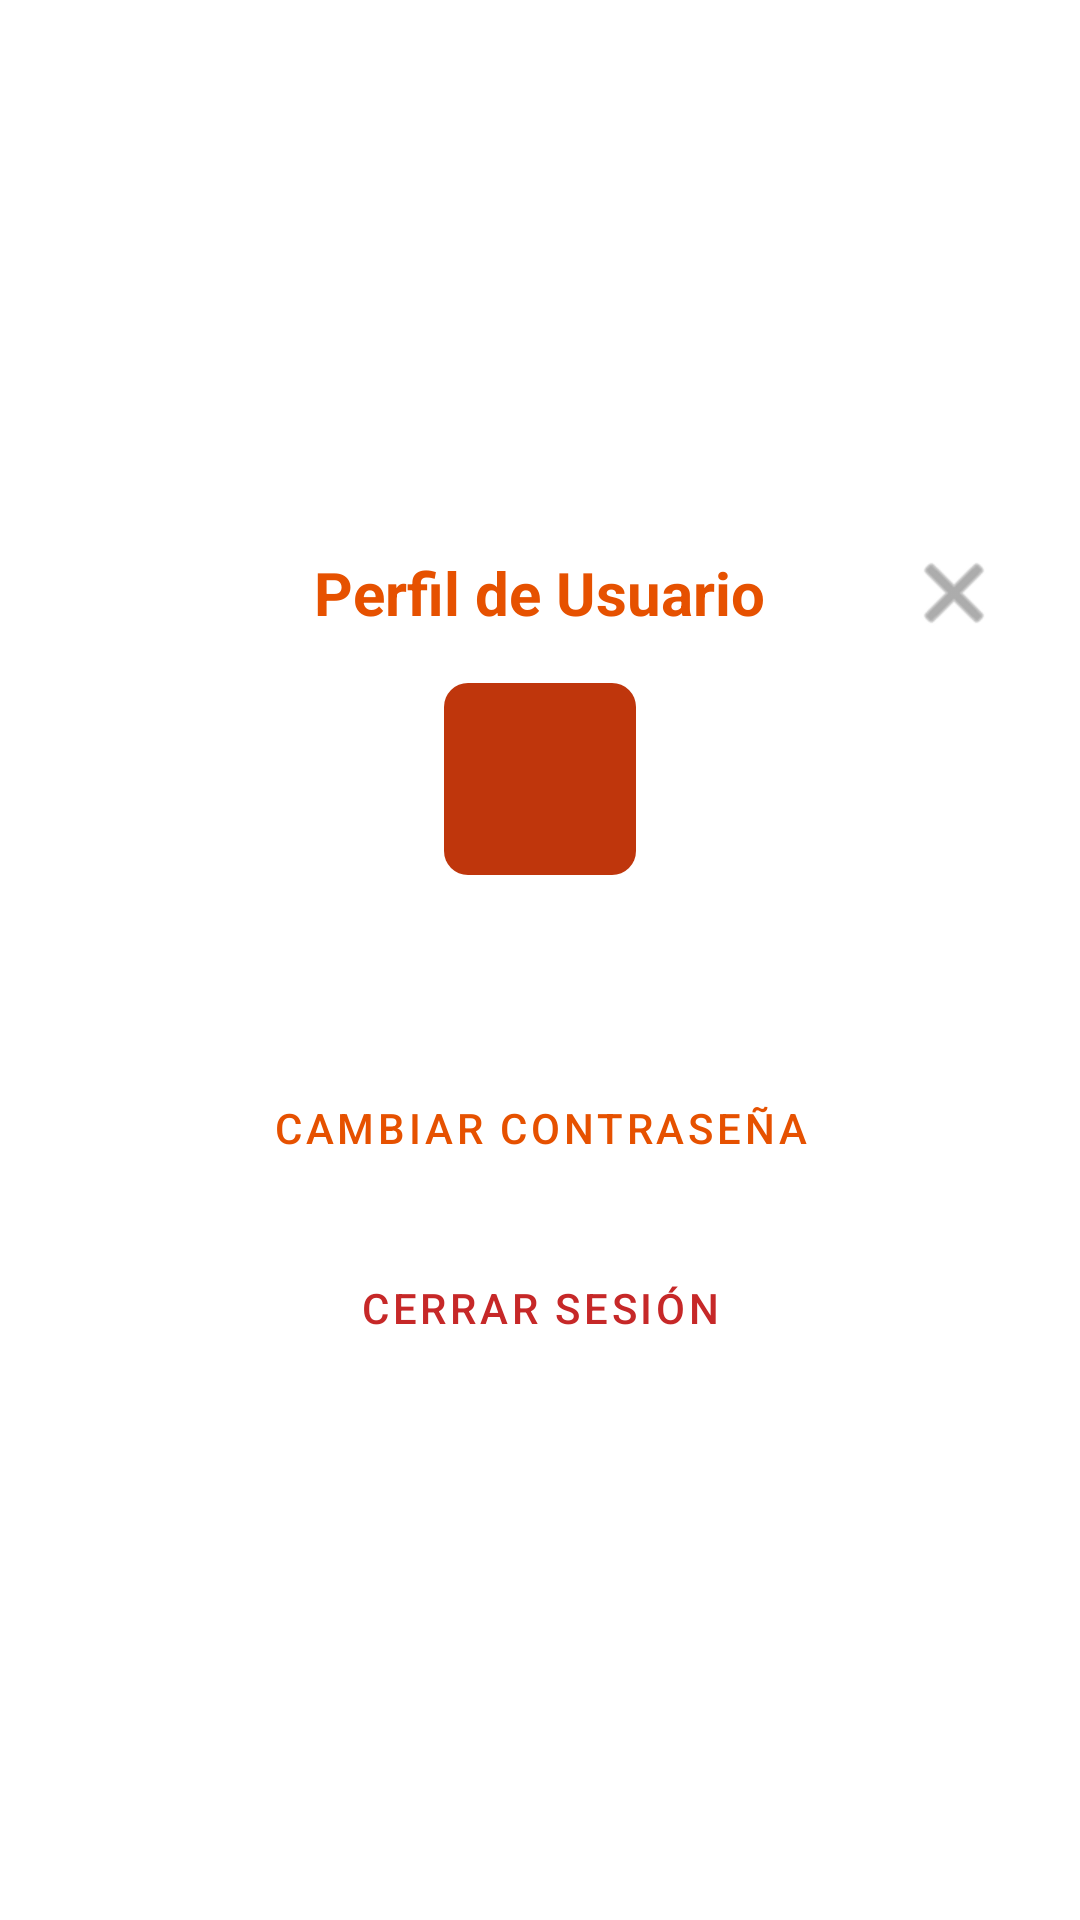

Icon click points for this 1080*1920 phone screenshot, format [x,y]:
Cancelar: [954,593]
